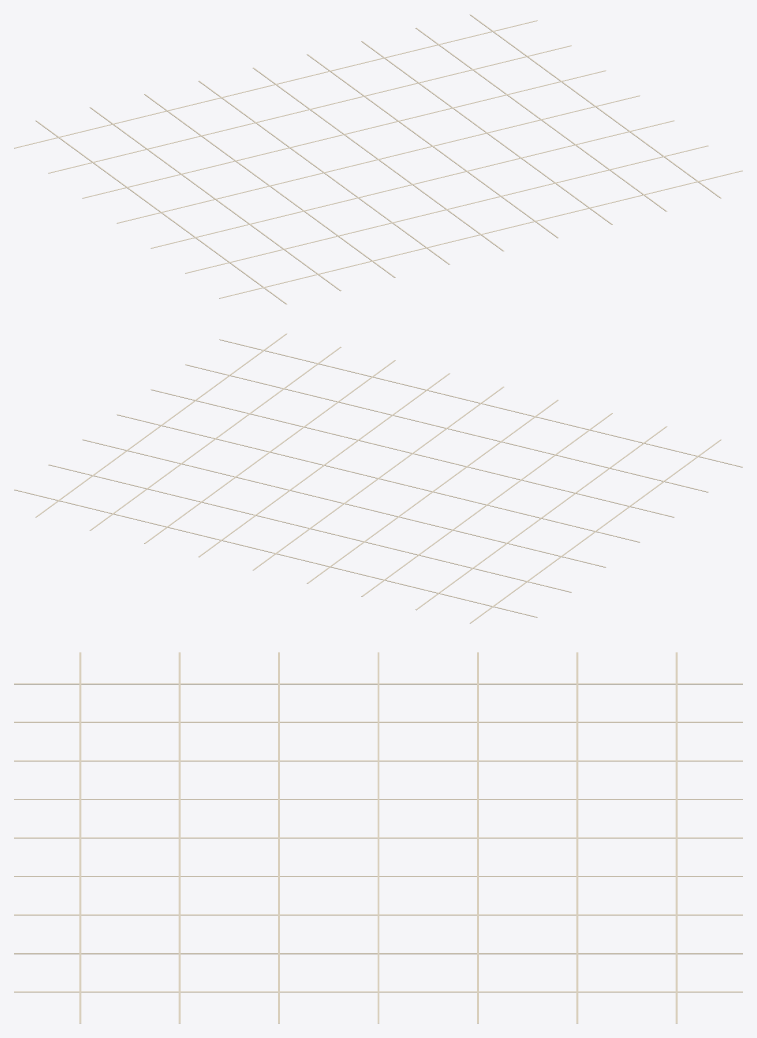
The picture shows the model from 3 angles, top to bottom: view 1: azimuth 30°, elevation 25°; view 2: azimuth 150°, elevation 25°; view 3: azimuth 270°, elevation 25°; orthographic projection. The views are drawn at different scales.
Visible parts, largest first — view 1: Grout Y.003, Grout Y.004, Grout Y.006, Grout Y, Grout Y.002, Grout Y.005, Grout Y.001, Grout X.008, Grout X, Grout X.001, Grout X.003, Grout X.004 (+4 smaller); view 2: Grout Y.002, Grout Y.003, Grout Y.006, Grout Y, Grout Y.001, Grout Y.004, Grout Y.005, Grout X.008, Grout X, Grout X.001, Grout X.003, Grout X.004 (+4 smaller); view 3: Grout X.008, Grout X, Grout X.001, Grout X.002, Grout X.004, Grout X.006, Grout X.007, Grout Y.005, Grout Y.001, Grout Y, Grout Y.006, Grout Y.003 (+4 smaller).
Part boxes in pixels (left/top/right/bottom): Grout Y.003: left=117, top=95, right=639, bottom=223; Grout Y.004: left=82, top=70, right=605, bottom=198; Grout Y.006: left=14, top=20, right=537, bottom=148; Grout Y: left=219, top=170, right=742, bottom=298; Grout Y.002: left=151, top=120, right=674, bottom=248; Grout Y.005: left=48, top=45, right=571, bottom=173; Grout Y.001: left=185, top=145, right=708, bottom=273; Grout X.008: left=470, top=14, right=721, bottom=198; Grout X: left=35, top=120, right=286, bottom=304; Grout X.001: left=89, top=107, right=341, bottom=291; Grout X.003: left=198, top=80, right=449, bottom=264; Grout X.004: left=253, top=67, right=503, bottom=251; Grout Y.002: left=151, top=389, right=674, bottom=517; Grout Y.003: left=117, top=414, right=639, bottom=542; Grout Y.006: left=14, top=489, right=537, bottom=617; Grout Y: left=219, top=339, right=742, bottom=467; Grout Y.001: left=185, top=364, right=708, bottom=492; Grout Y.004: left=82, top=439, right=605, bottom=567; Grout Y.005: left=48, top=464, right=571, bottom=592; Grout X.008: left=35, top=333, right=286, bottom=517; Grout X: left=470, top=439, right=721, bottom=623; Grout X.001: left=415, top=426, right=667, bottom=610; Grout X.003: left=307, top=399, right=558, bottom=583; Grout X.004: left=253, top=386, right=503, bottom=570; Grout X.008: left=14, top=991, right=742, bottom=992; Grout X: left=14, top=683, right=742, bottom=684; Grout X.001: left=14, top=721, right=742, bottom=722; Grout X.002: left=14, top=760, right=742, bottom=761; Grout X.004: left=14, top=837, right=742, bottom=838; Grout X.006: left=14, top=914, right=742, bottom=915; Grout X.007: left=14, top=953, right=742, bottom=954; Grout Y.005: left=576, top=652, right=578, bottom=1023; Grout Y.001: left=178, top=652, right=180, bottom=1023; Grout Y: left=79, top=652, right=81, bottom=1023; Grout Y.006: left=675, top=652, right=677, bottom=1023; Grout Y.003: left=377, top=652, right=379, bottom=1023.
Bounding box in the file's own units: 5.3 × 0.003 × 4.4.
1 material, 1 textured.
